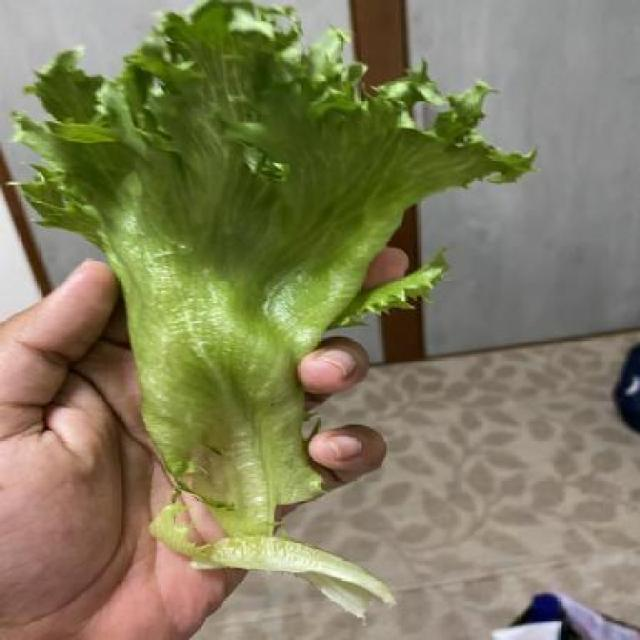Lettuce: (18, 0, 540, 591)
